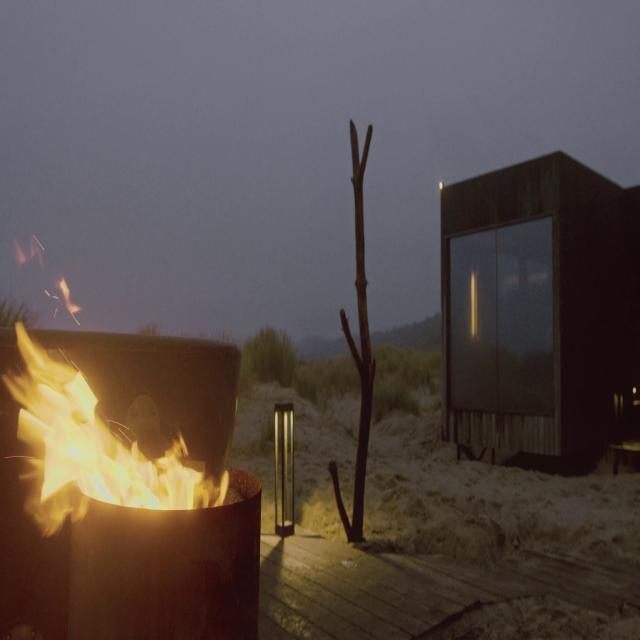Fire: (2, 322, 226, 526)
